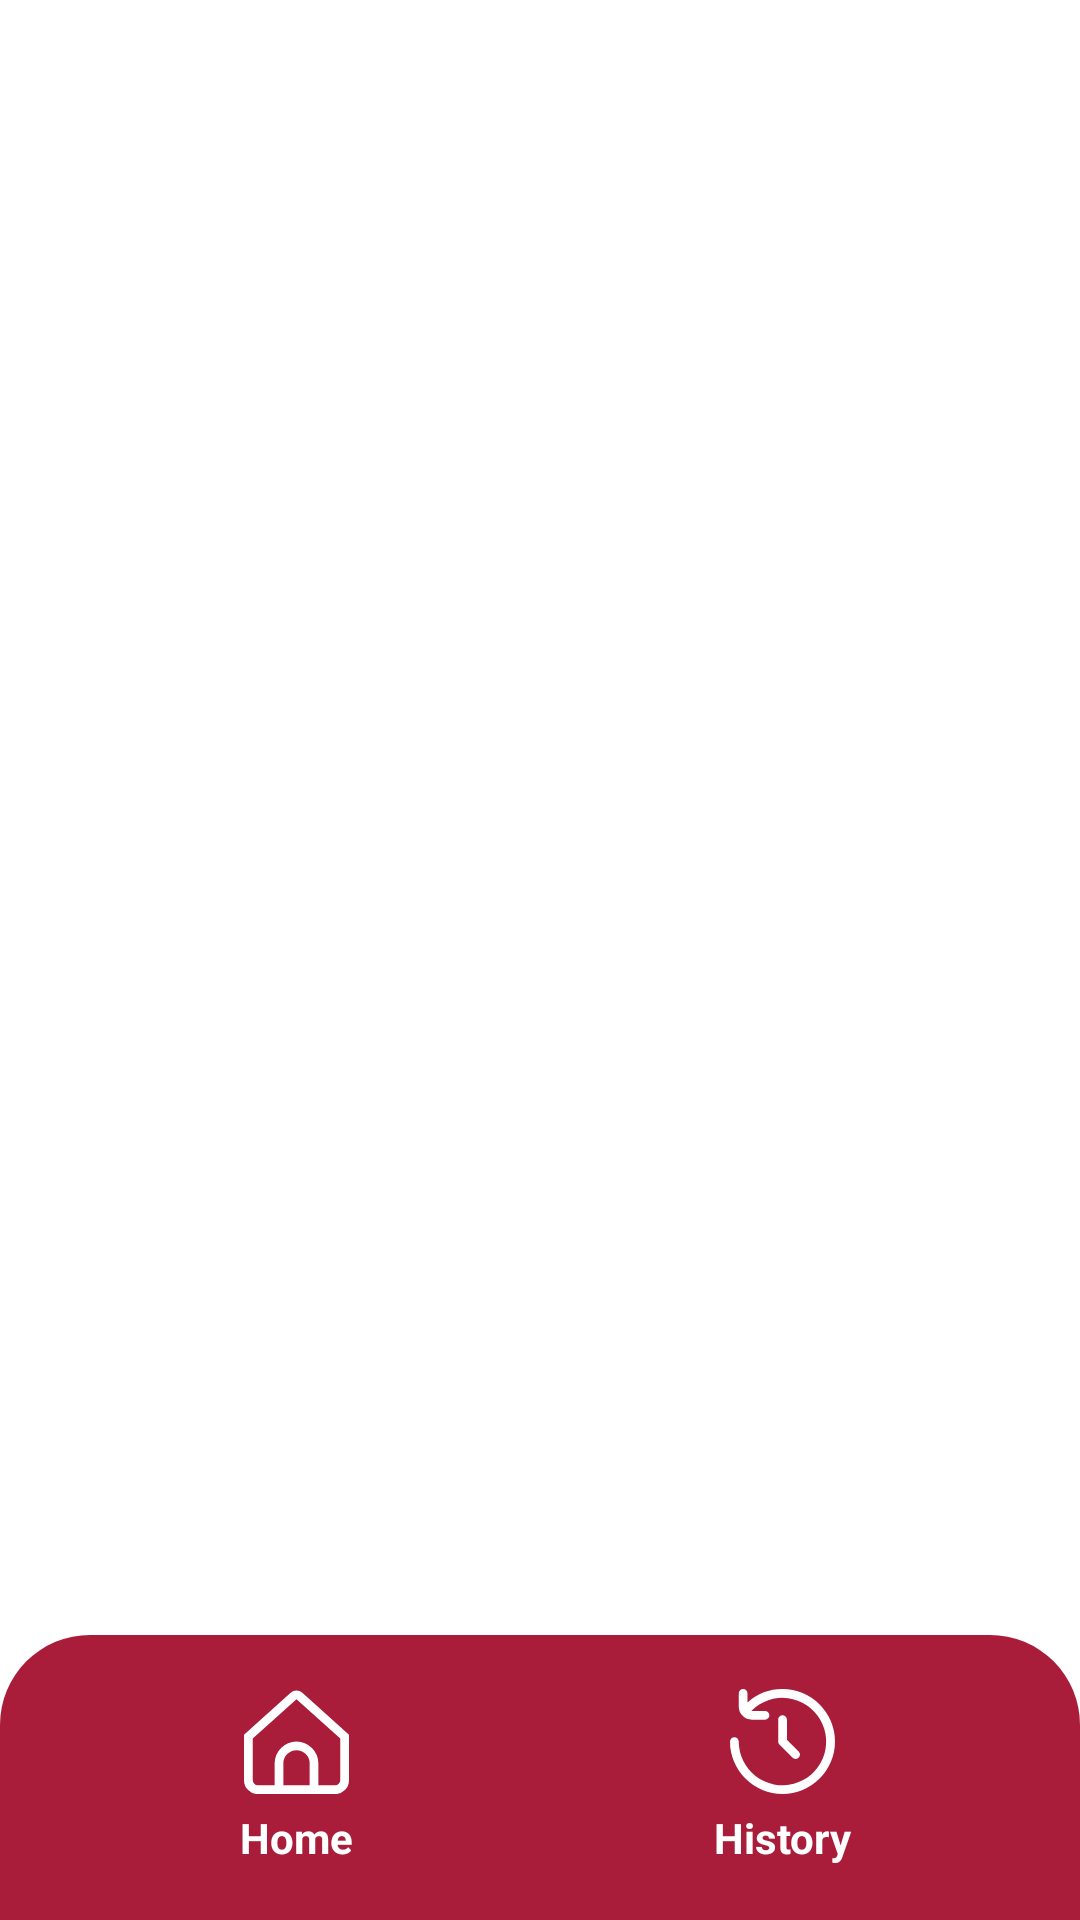

Where to tap for icons on this 1080px x 1920px app screen, as point (x, y):
time past: point (782, 1741)
